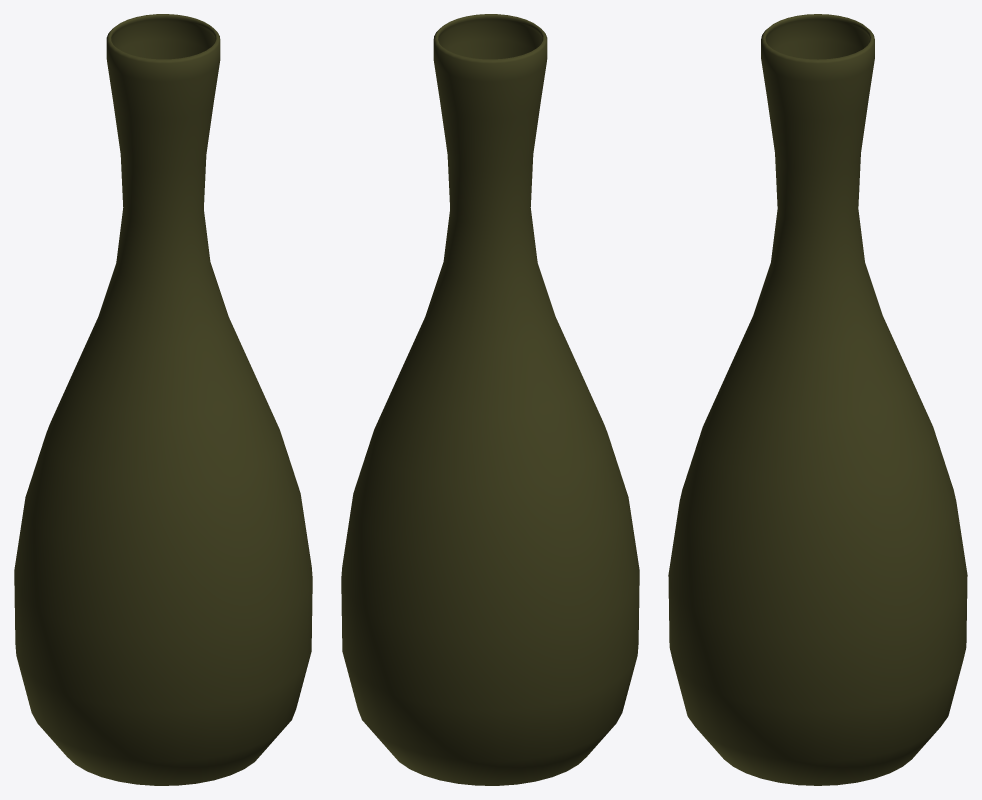
File: vase_y.fbx
The picture shows the model from 3 angles, left to right: view 1: azimuth 30°, elevation 25°; view 2: azimuth 150°, elevation 25°; view 3: azimuth 270°, elevation 25°; orthographic projection.
Parts seen in each view (by area): view 1: Plane; view 2: Plane; view 3: Plane.
Part boxes in pixels (x1,y1,x2,y2): Plane: (14,14,312,785); Plane: (341,14,639,785); Plane: (668,14,967,785).
Bounding box in the file's own units: 15 × 40 × 15.
